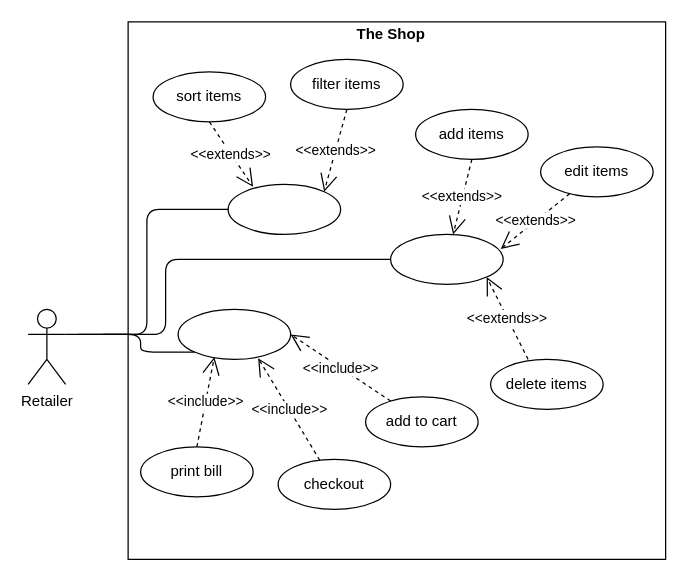
This 688x581 diagram has some shape labels left out. The centre of each missing label's shape, as x and y in pixels:
list items: the point at 284,208
manage items: the point at 446,258
order items: the point at 234,333
